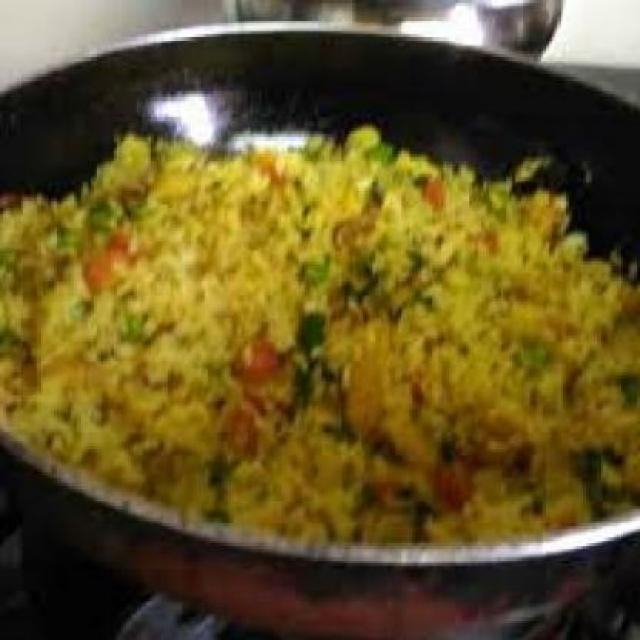poha: (0, 128, 640, 549)
